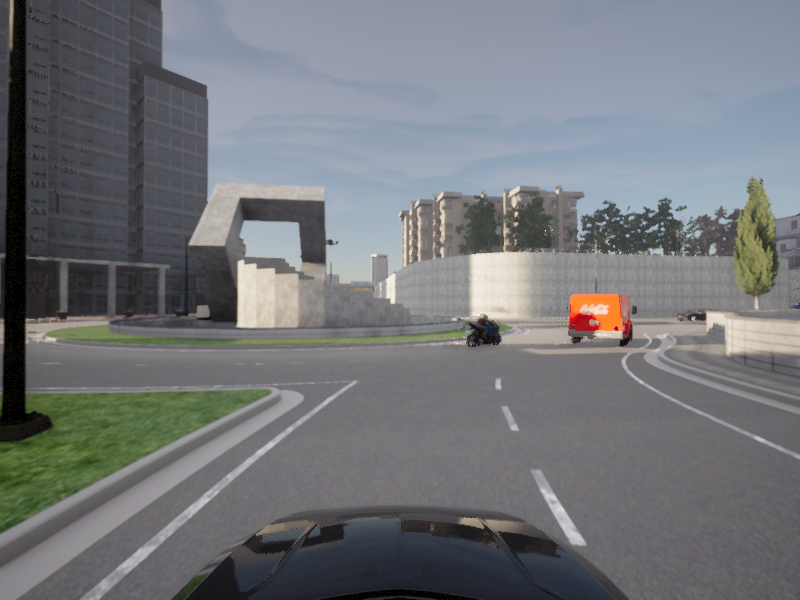vehicle: (564, 293, 638, 348), (460, 314, 507, 350)
